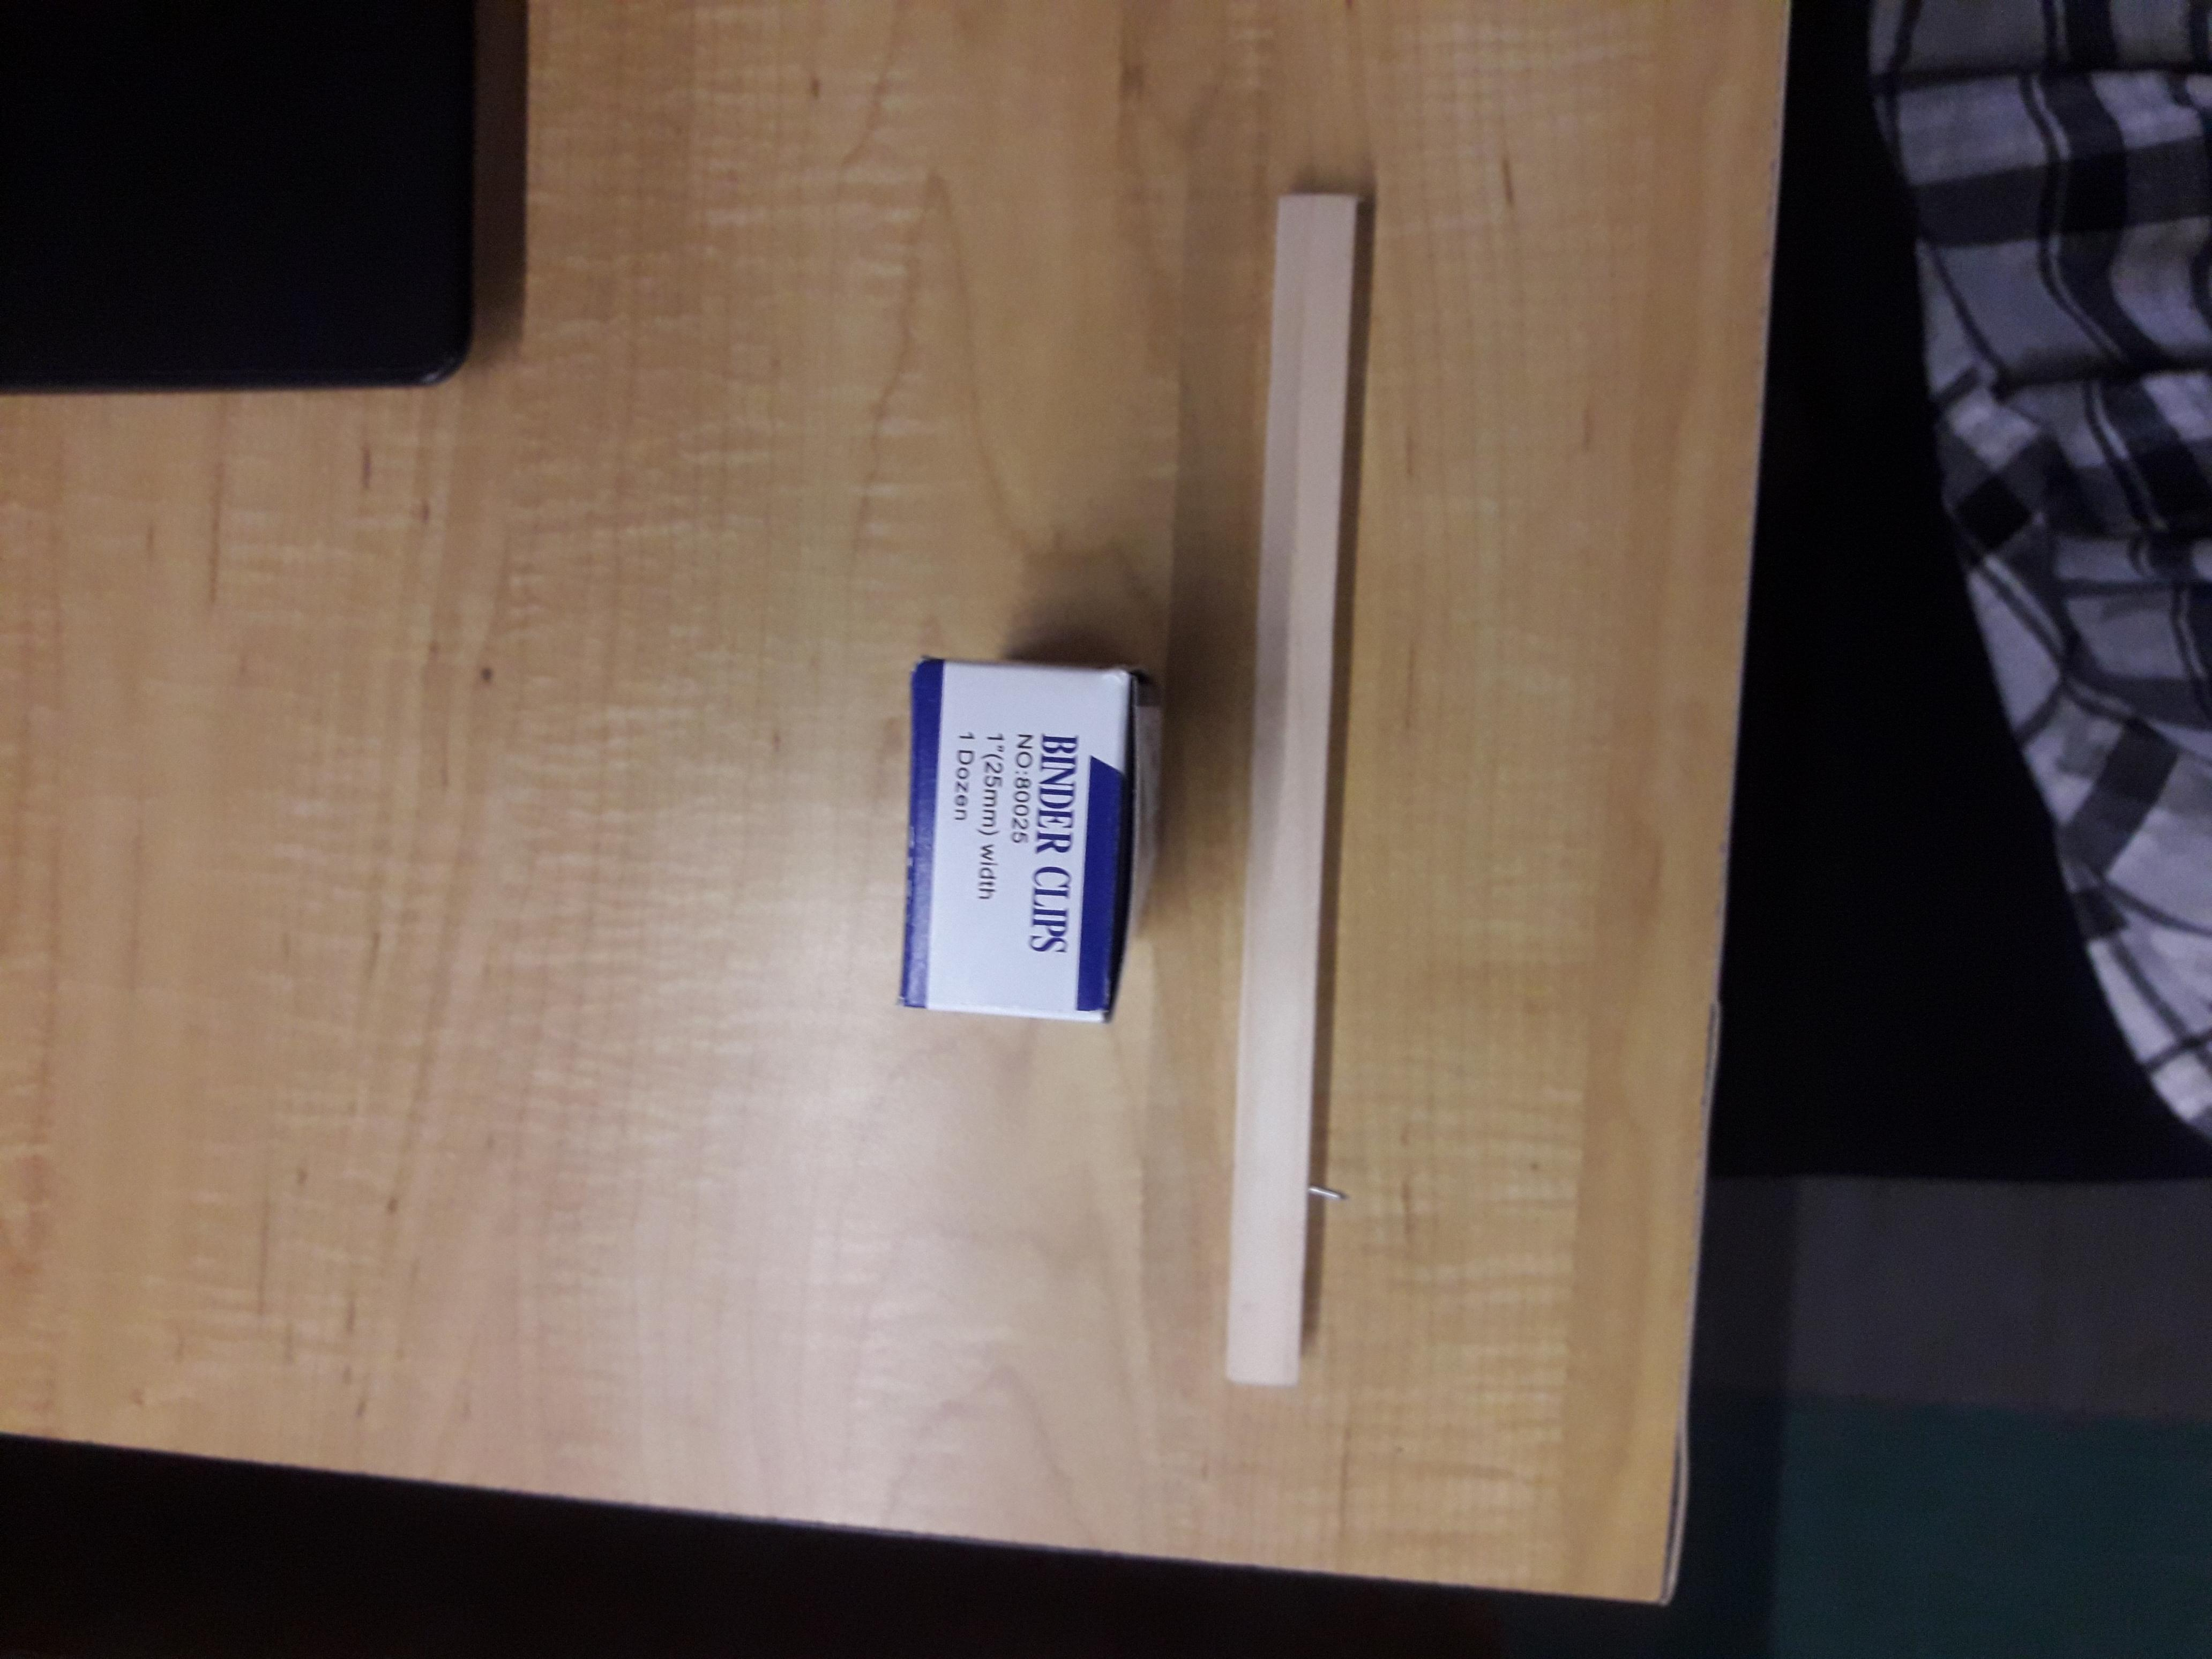object: (899, 662, 1130, 1023)
reference: (1226, 193, 1360, 1385)
